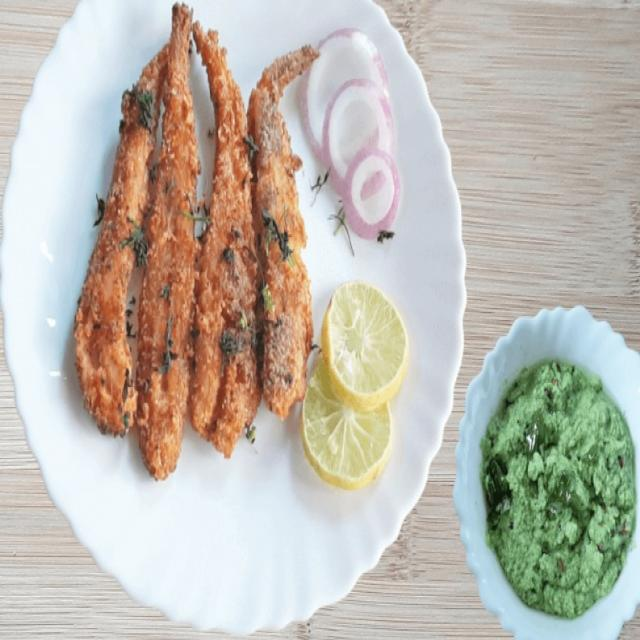FISH FRY: (72, 7, 316, 479)
GREEN CHUTNEY: (484, 363, 633, 613)
